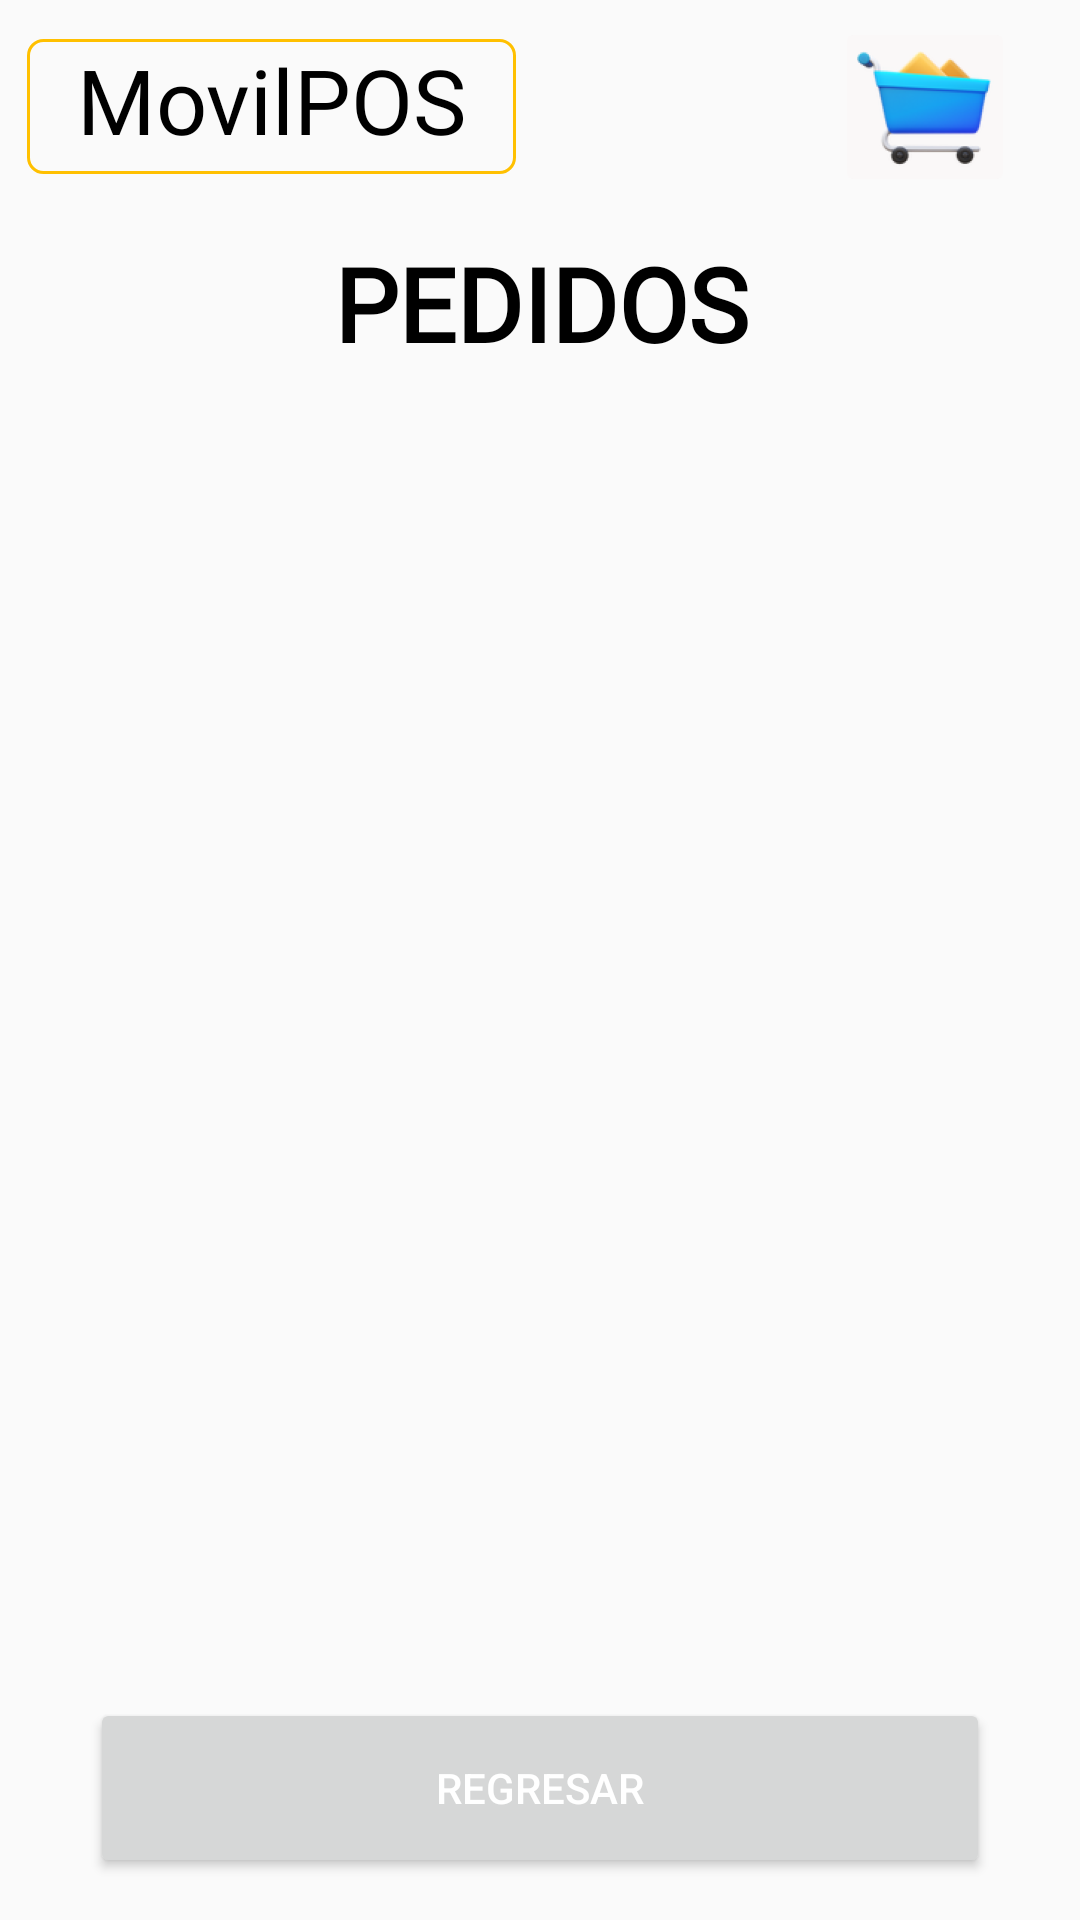

Named icons in this screenshot (1080px x 1920px) and their centers, (x=x, y=y):
carrito copras: (x=924, y=108)
